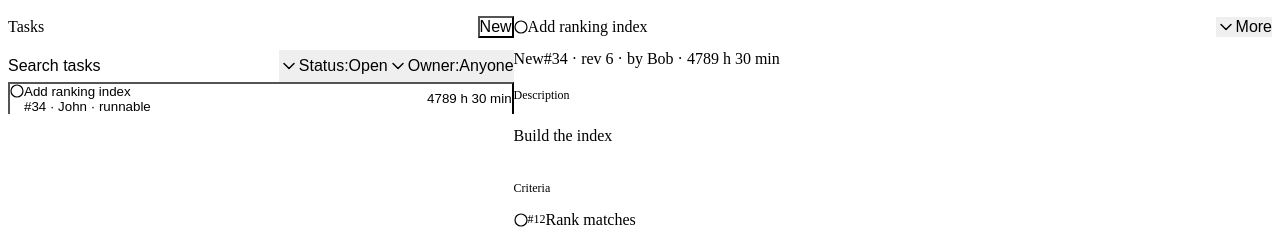
Test: debounces participant updates and refreshes both task list and detail
The image size is (1280, 244).
Expected: the heading "Add ranking index" is shown, left=528, top=18, right=648, bottom=35
Click the button "More" at (1244, 27), box left=1216, top=17, right=1272, bottom=37
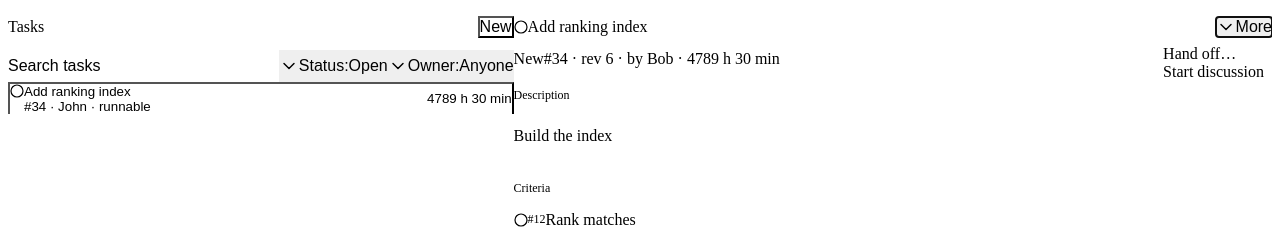
Click the option "Hand off…" at (1200, 54), box left=1163, top=45, right=1236, bottom=62
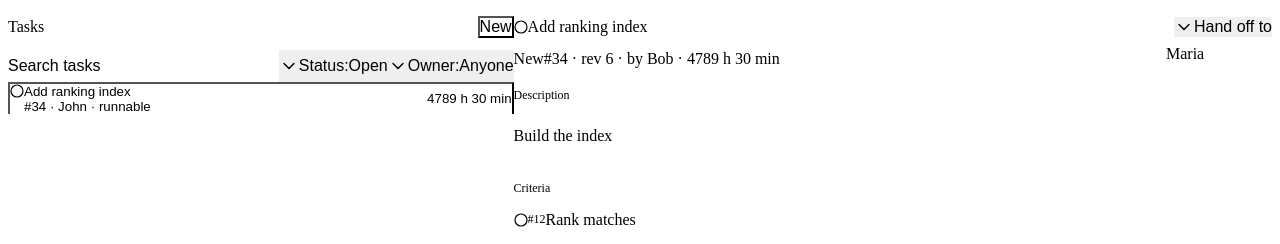
Result: the option "Maria" is shown at left=1166, top=45, right=1204, bottom=62
